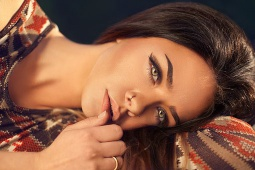female: (80, 32, 214, 134)
